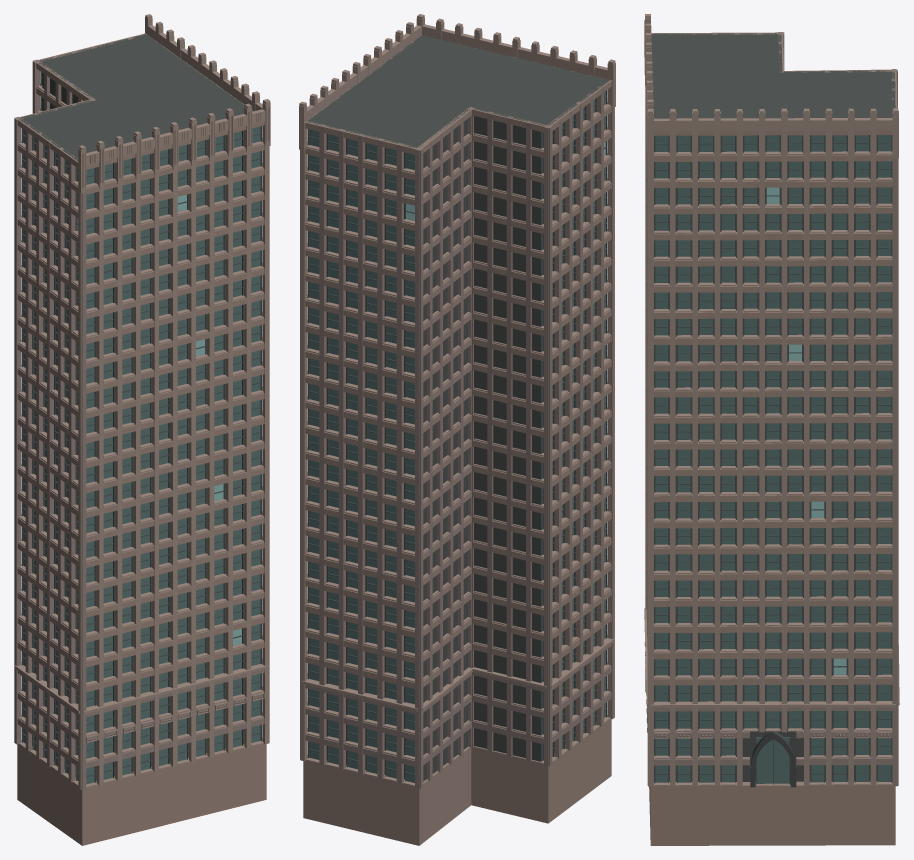
The model's file is lasalle_100.glb.
3 renders of one model, left to right at view 1: azimuth 30°, elevation 25°; view 2: azimuth 150°, elevation 25°; view 3: azimuth 270°, elevation 25°, orthographic. The views are drawn at different scales.
Visible parts, largest first — view 1: LaSalle100 brown terra cotta piers and crown, LaSalle100 painted brown masonry, LaSalle100 recessed green grey windows, LaSalle100 brown tiled altered base, LaSalle100 opaque interior and flat roof, LaSalle100 dark metal window frames, Night LaSalle100 occupied windows; view 2: LaSalle100 brown tiled altered base, LaSalle100 opaque interior and flat roof, LaSalle100 painted brown masonry, LaSalle100 brown terra cotta piers and crown, LaSalle100 recessed green grey windows, LaSalle100 dark metal window frames; view 3: LaSalle100 brown terra cotta piers and crown, LaSalle100 recessed green grey windows, LaSalle100 painted brown masonry, LaSalle100 opaque interior and flat roof, LaSalle100 dark metal window frames, LaSalle100 brown tiled altered base, Night LaSalle100 occupied windows, LaSalle100 black granite pointed portal.
Boxes of the visible parts, box(x1,y1,x2,y2) form: LaSalle100 brown terra cotta piers and crown: box(14, 14, 270, 789); LaSalle100 painted brown masonry: box(17, 33, 266, 845); LaSalle100 recessed green grey windows: box(23, 72, 260, 784); LaSalle100 brown tiled altered base: box(14, 37, 264, 789); LaSalle100 opaque interior and flat roof: box(19, 34, 253, 780); LaSalle100 dark metal window frames: box(22, 71, 261, 782); Night LaSalle100 occupied windows: box(77, 194, 241, 645); LaSalle100 brown tiled altered base: box(300, 86, 611, 788); LaSalle100 opaque interior and flat roof: box(307, 35, 609, 781); LaSalle100 painted brown masonry: box(303, 63, 611, 845); LaSalle100 brown terra cotta piers and crown: box(299, 14, 615, 786); LaSalle100 recessed green grey windows: box(309, 91, 605, 782); LaSalle100 dark metal window frames: box(307, 90, 607, 781); LaSalle100 brown terra cotta piers and crown: box(644, 14, 899, 786); LaSalle100 recessed green grey windows: box(655, 135, 891, 783); LaSalle100 painted brown masonry: box(646, 32, 897, 845); LaSalle100 opaque interior and flat roof: box(651, 33, 895, 781); LaSalle100 dark metal window frames: box(654, 135, 892, 784); LaSalle100 brown tiled altered base: box(645, 32, 897, 786); Night LaSalle100 occupied windows: box(766, 187, 846, 674); LaSalle100 black granite pointed portal: box(750, 731, 796, 787).
Bounding box in the file's own units: 28.34 × 98 × 30.84.
